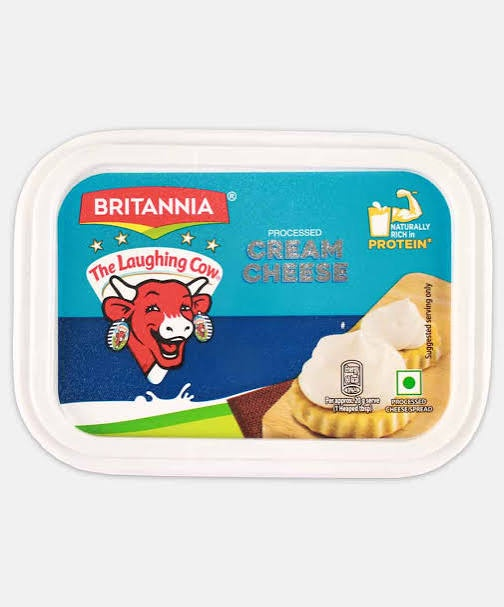Britannaia chaeese spreadz: (0, 121, 489, 458)
